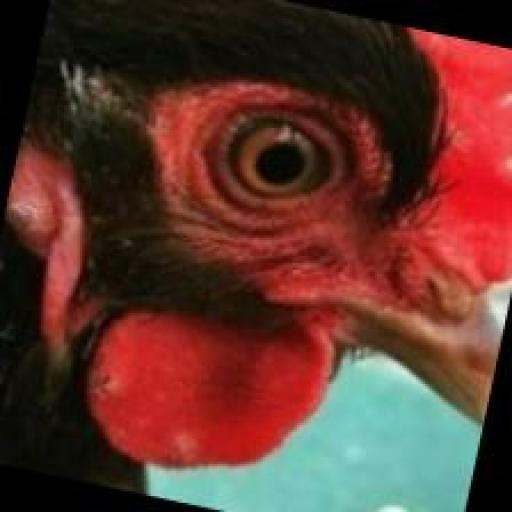disease: (92, 346, 218, 476)
